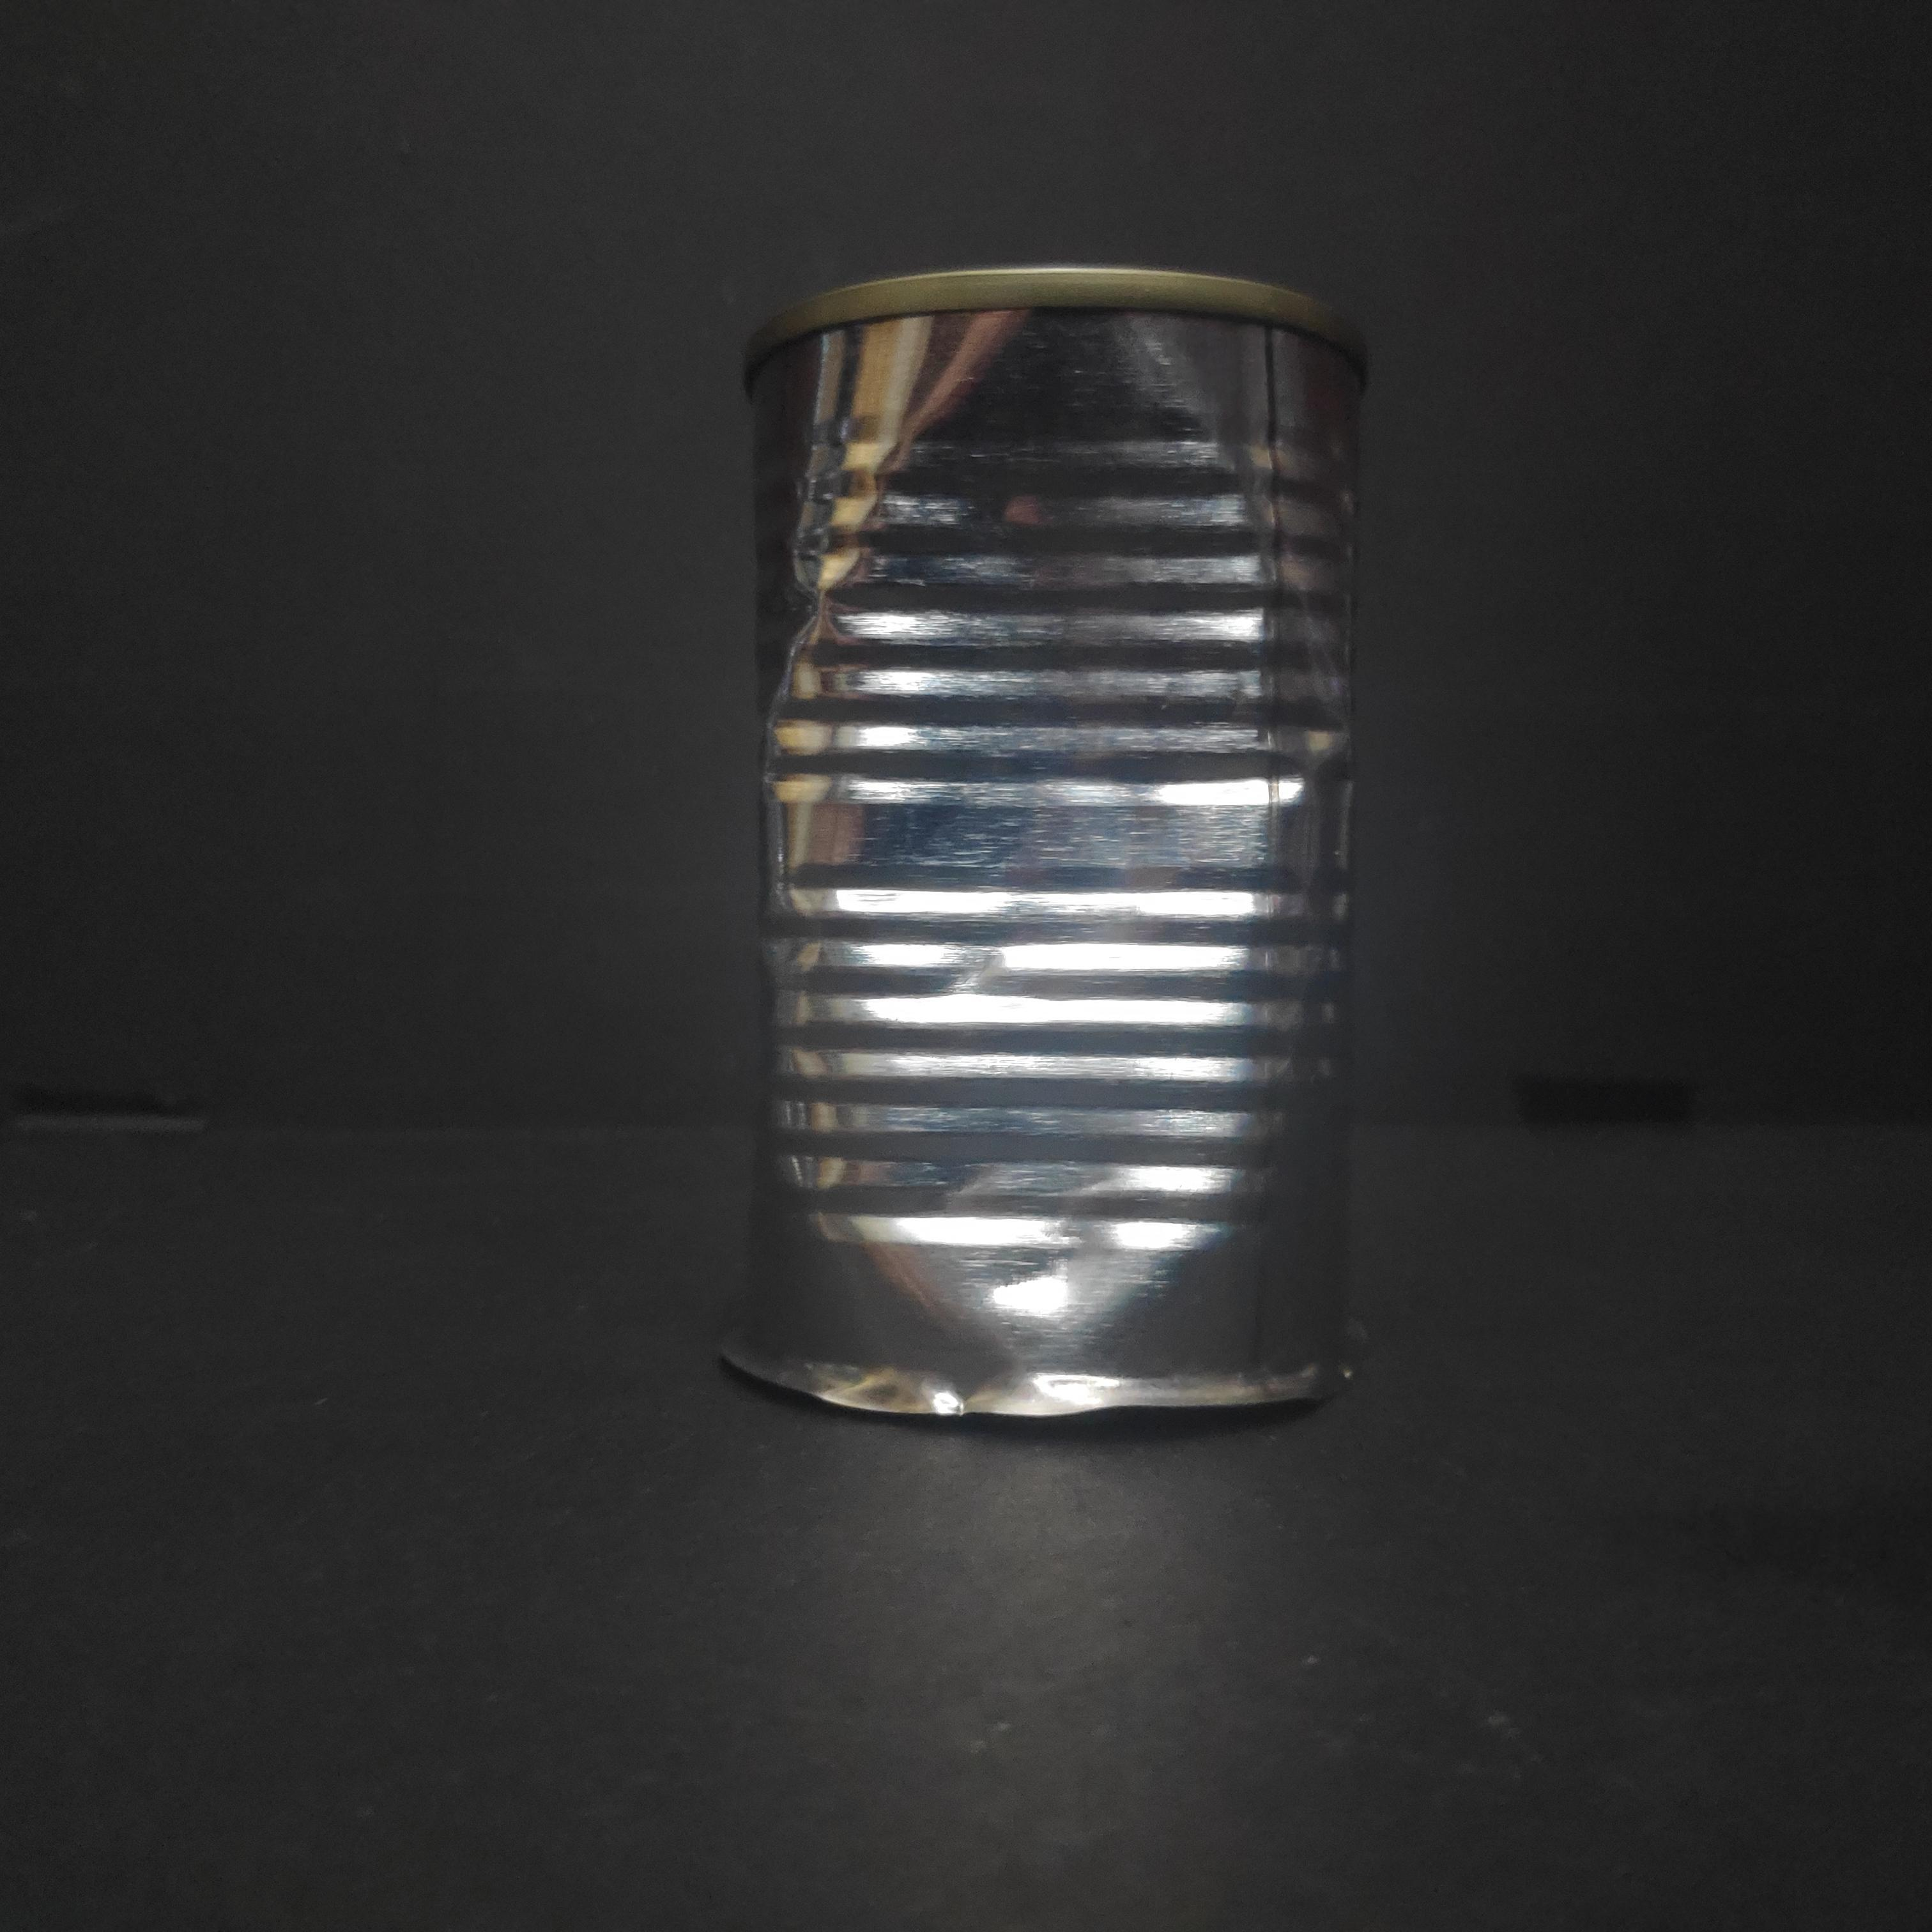Dented: (713, 239, 1399, 1460)
